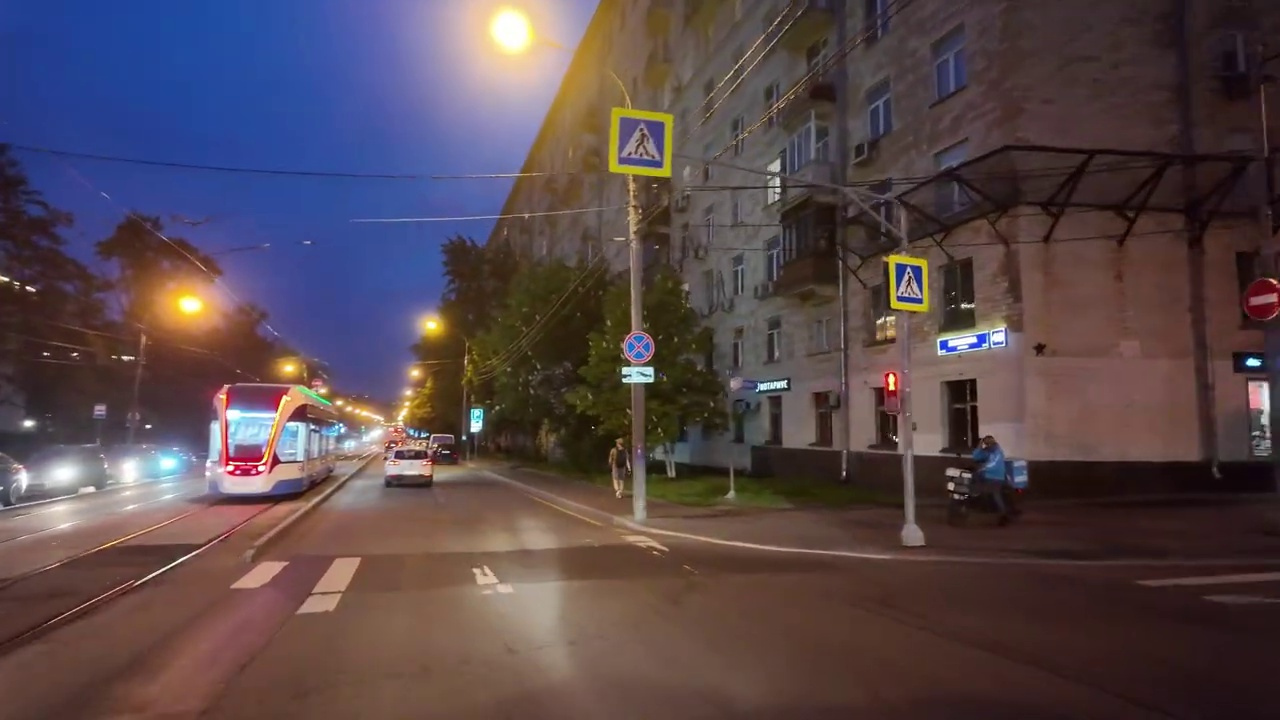acesa: (479, 5, 543, 63), (161, 284, 213, 328), (417, 310, 450, 342), (274, 355, 305, 381)
